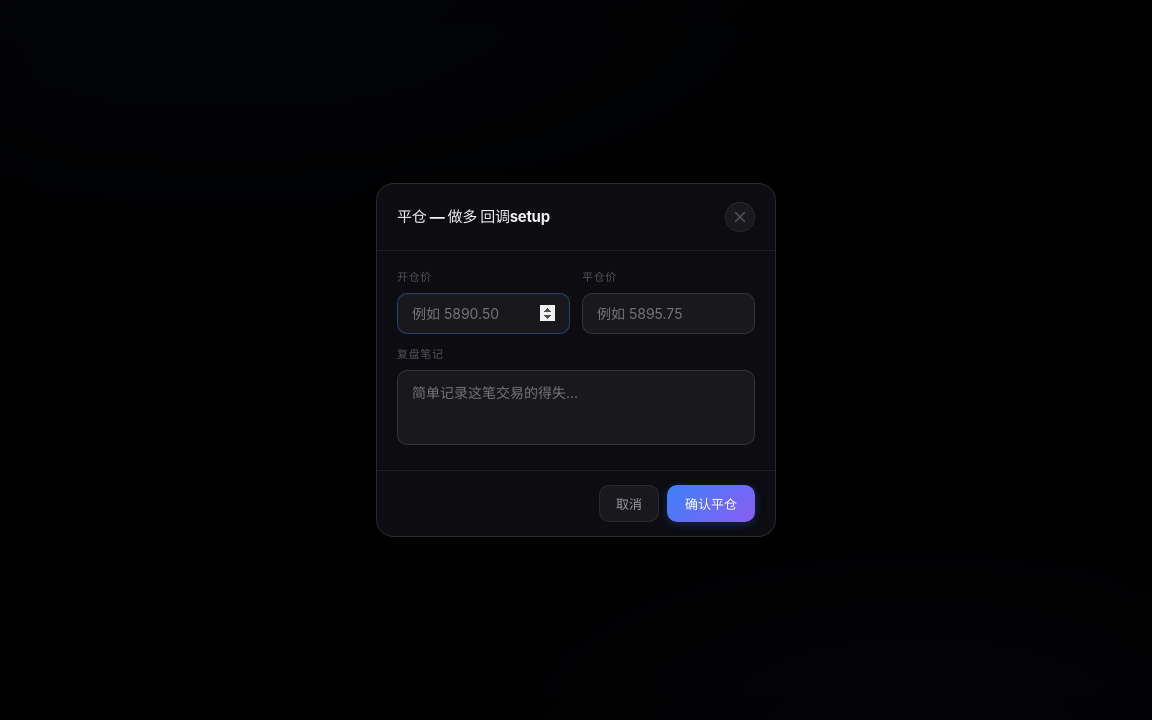
Test: TradeCloseModal › auto-computes loss for long trade with lower exit
The image size is (1152, 720).
In the number field with placeholder "例如 5890.50": (484, 314) [397,293,570,334], type "5890"
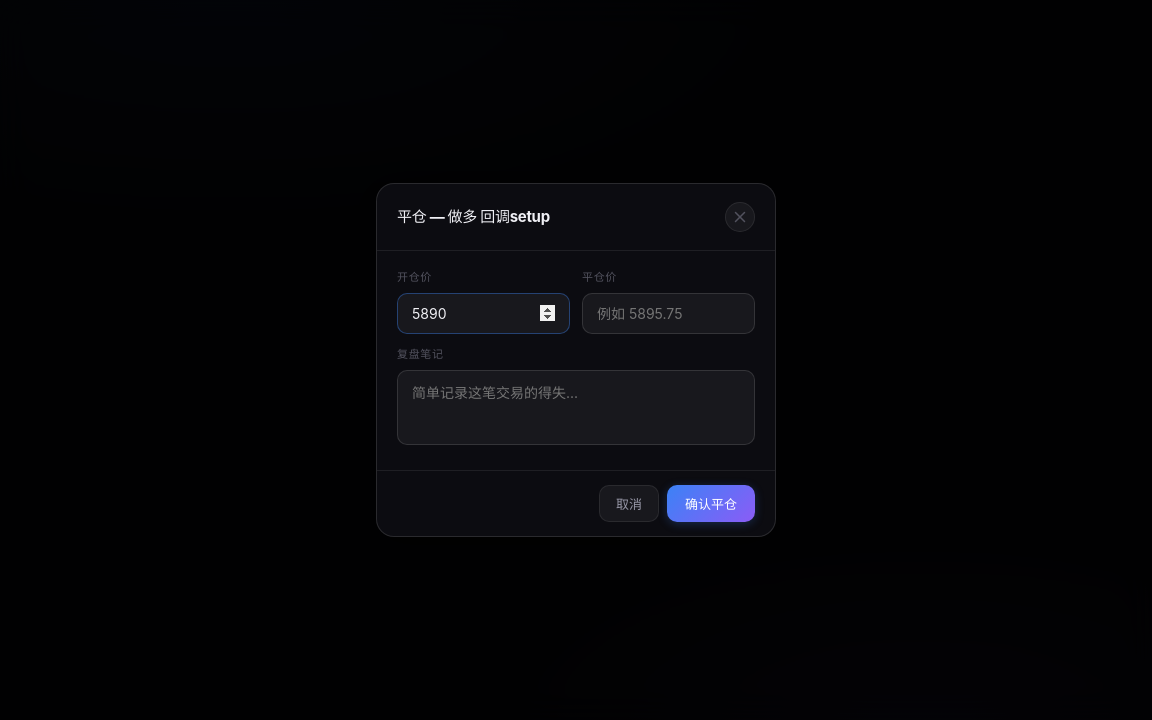
In the number field with placeholder "例如 5895.75": (668, 314) [582,293,755,334], type "5885"
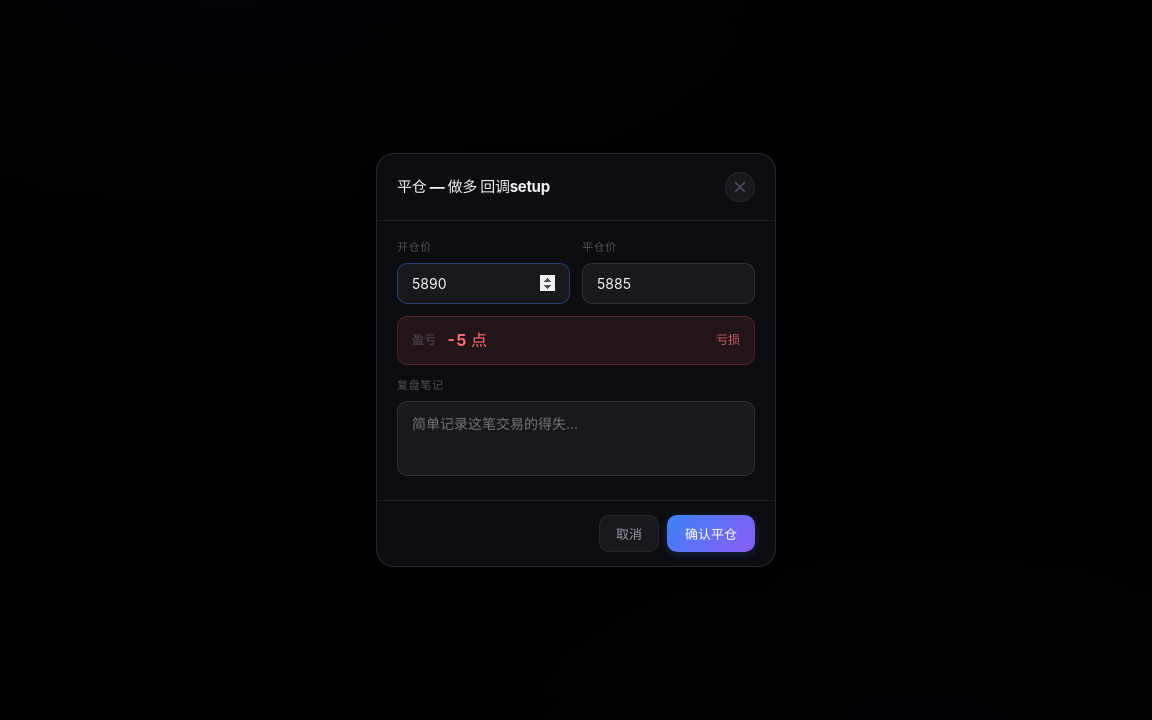
Expected: the text "亏损" is shown, [716,331,740,349]
